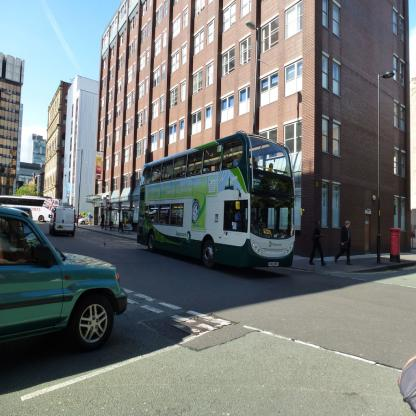Car: (1, 207, 130, 352)
